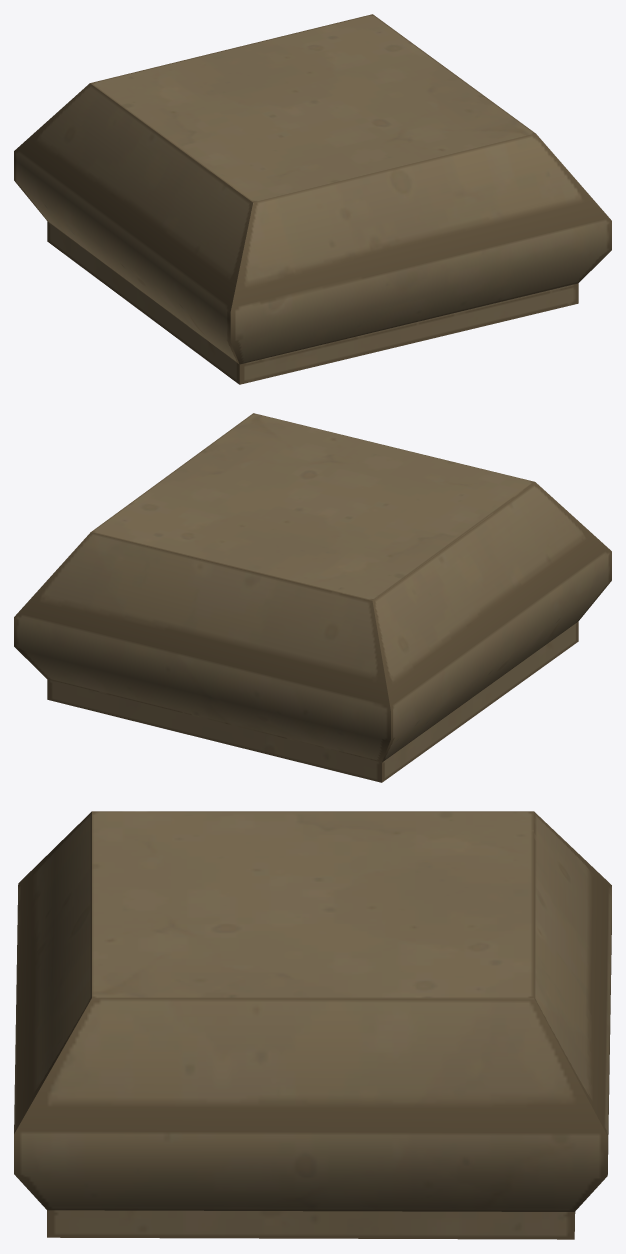
File: SM_building_block_04.glb
The picture shows the model from 3 angles, top to bottom: view 1: azimuth 30°, elevation 25°; view 2: azimuth 150°, elevation 25°; view 3: azimuth 270°, elevation 25°; orthographic projection. The views are drawn at different scales.
Parts seen in each view (by area): view 1: SM_building_block_04; view 2: SM_building_block_04; view 3: SM_building_block_04.
Part boxes in pixels (x1=…): SM_building_block_04: x1=14, y1=14, x2=611, y2=384; SM_building_block_04: x1=14, y1=413, x2=611, y2=782; SM_building_block_04: x1=14, y1=811, x2=611, y2=1239.
Size of the model in its own units: 0.9753 by 0.4 by 0.9753.
1 material, 1 textured.
